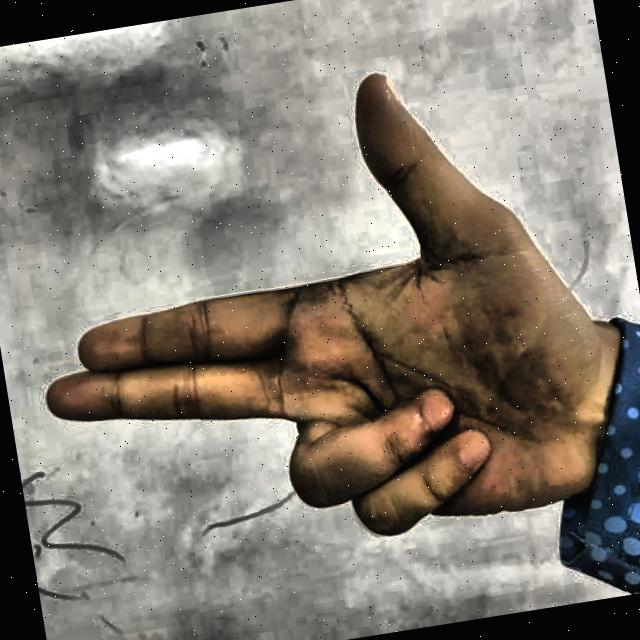Jha: (0, 3, 631, 640)
